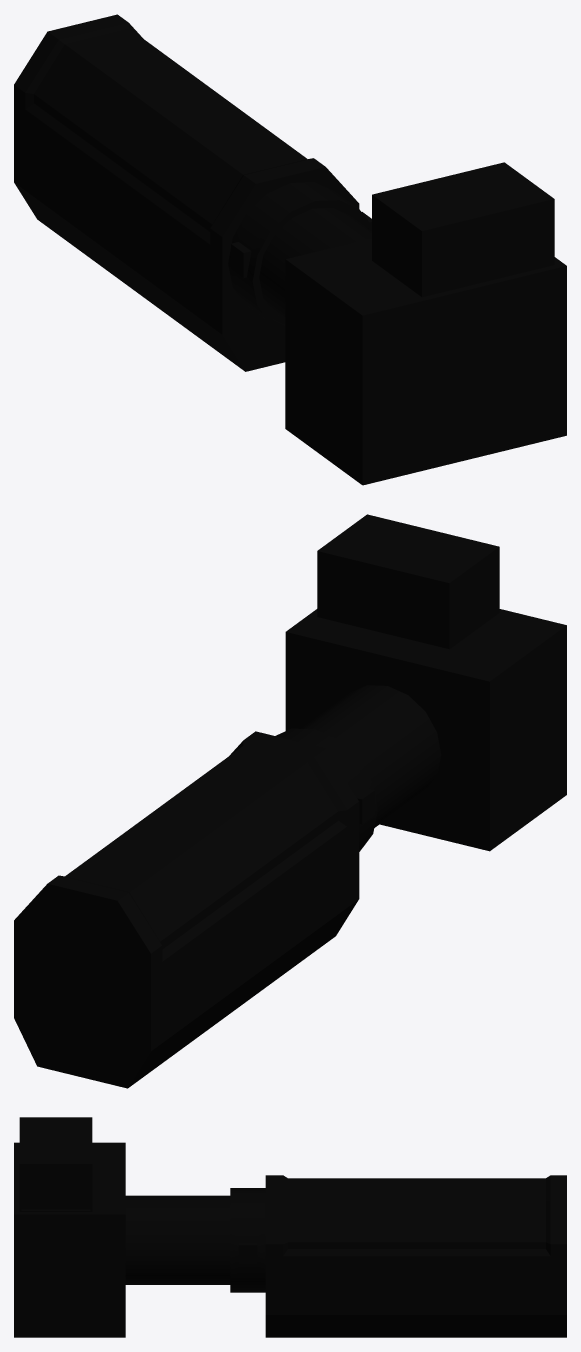
Rendered from generator_02 (unfinished).glb.
3 renders of one model, top to bottom at view 1: azimuth 30°, elevation 25°; view 2: azimuth 150°, elevation 25°; view 3: azimuth 270°, elevation 25°, orthographic. The views are drawn at different scales.
Visible parts, largest first — view 1: Gen01, Gen03, Gen02; view 2: Gen03, Gen01, Gen02; view 3: Gen03, Gen01, Gen02.
Boxes of the visible parts, x1,y1,x2,y2 form: Gen01: [285, 162, 566, 485]; Gen03: [14, 14, 359, 371]; Gen02: [228, 182, 371, 329]; Gen03: [14, 731, 359, 1088]; Gen01: [285, 514, 566, 851]; Gen02: [276, 685, 440, 851]; Gen03: [265, 1175, 566, 1337]; Gen01: [14, 1117, 125, 1337]; Gen02: [125, 1188, 265, 1292].
Bounding box in the file's own units: 3.06 × 3.77 × 9.91.
Materials: 3 (3 with a texture image).
